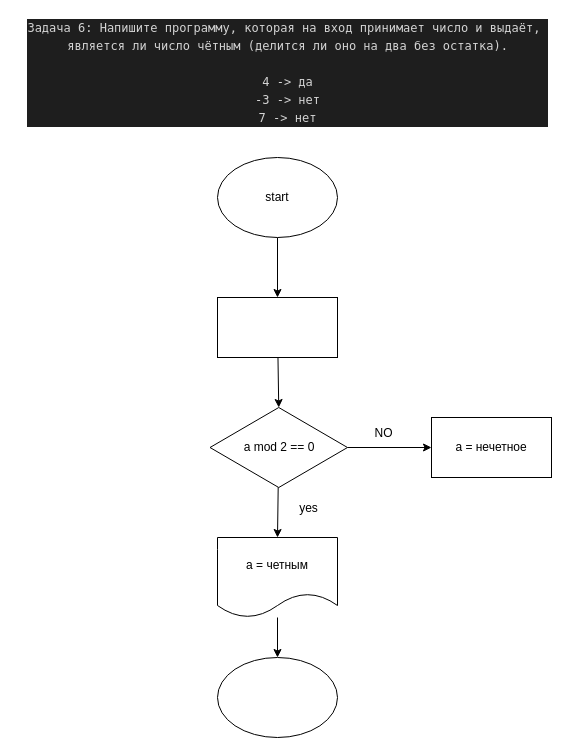
Image size: 574x755. Some labels were removed from this diagram. Here are the shapes that lost their labels. From the top down, the centre of each, then its label:
At point 277,327: "a = 0".
At point 277,697: "end".
